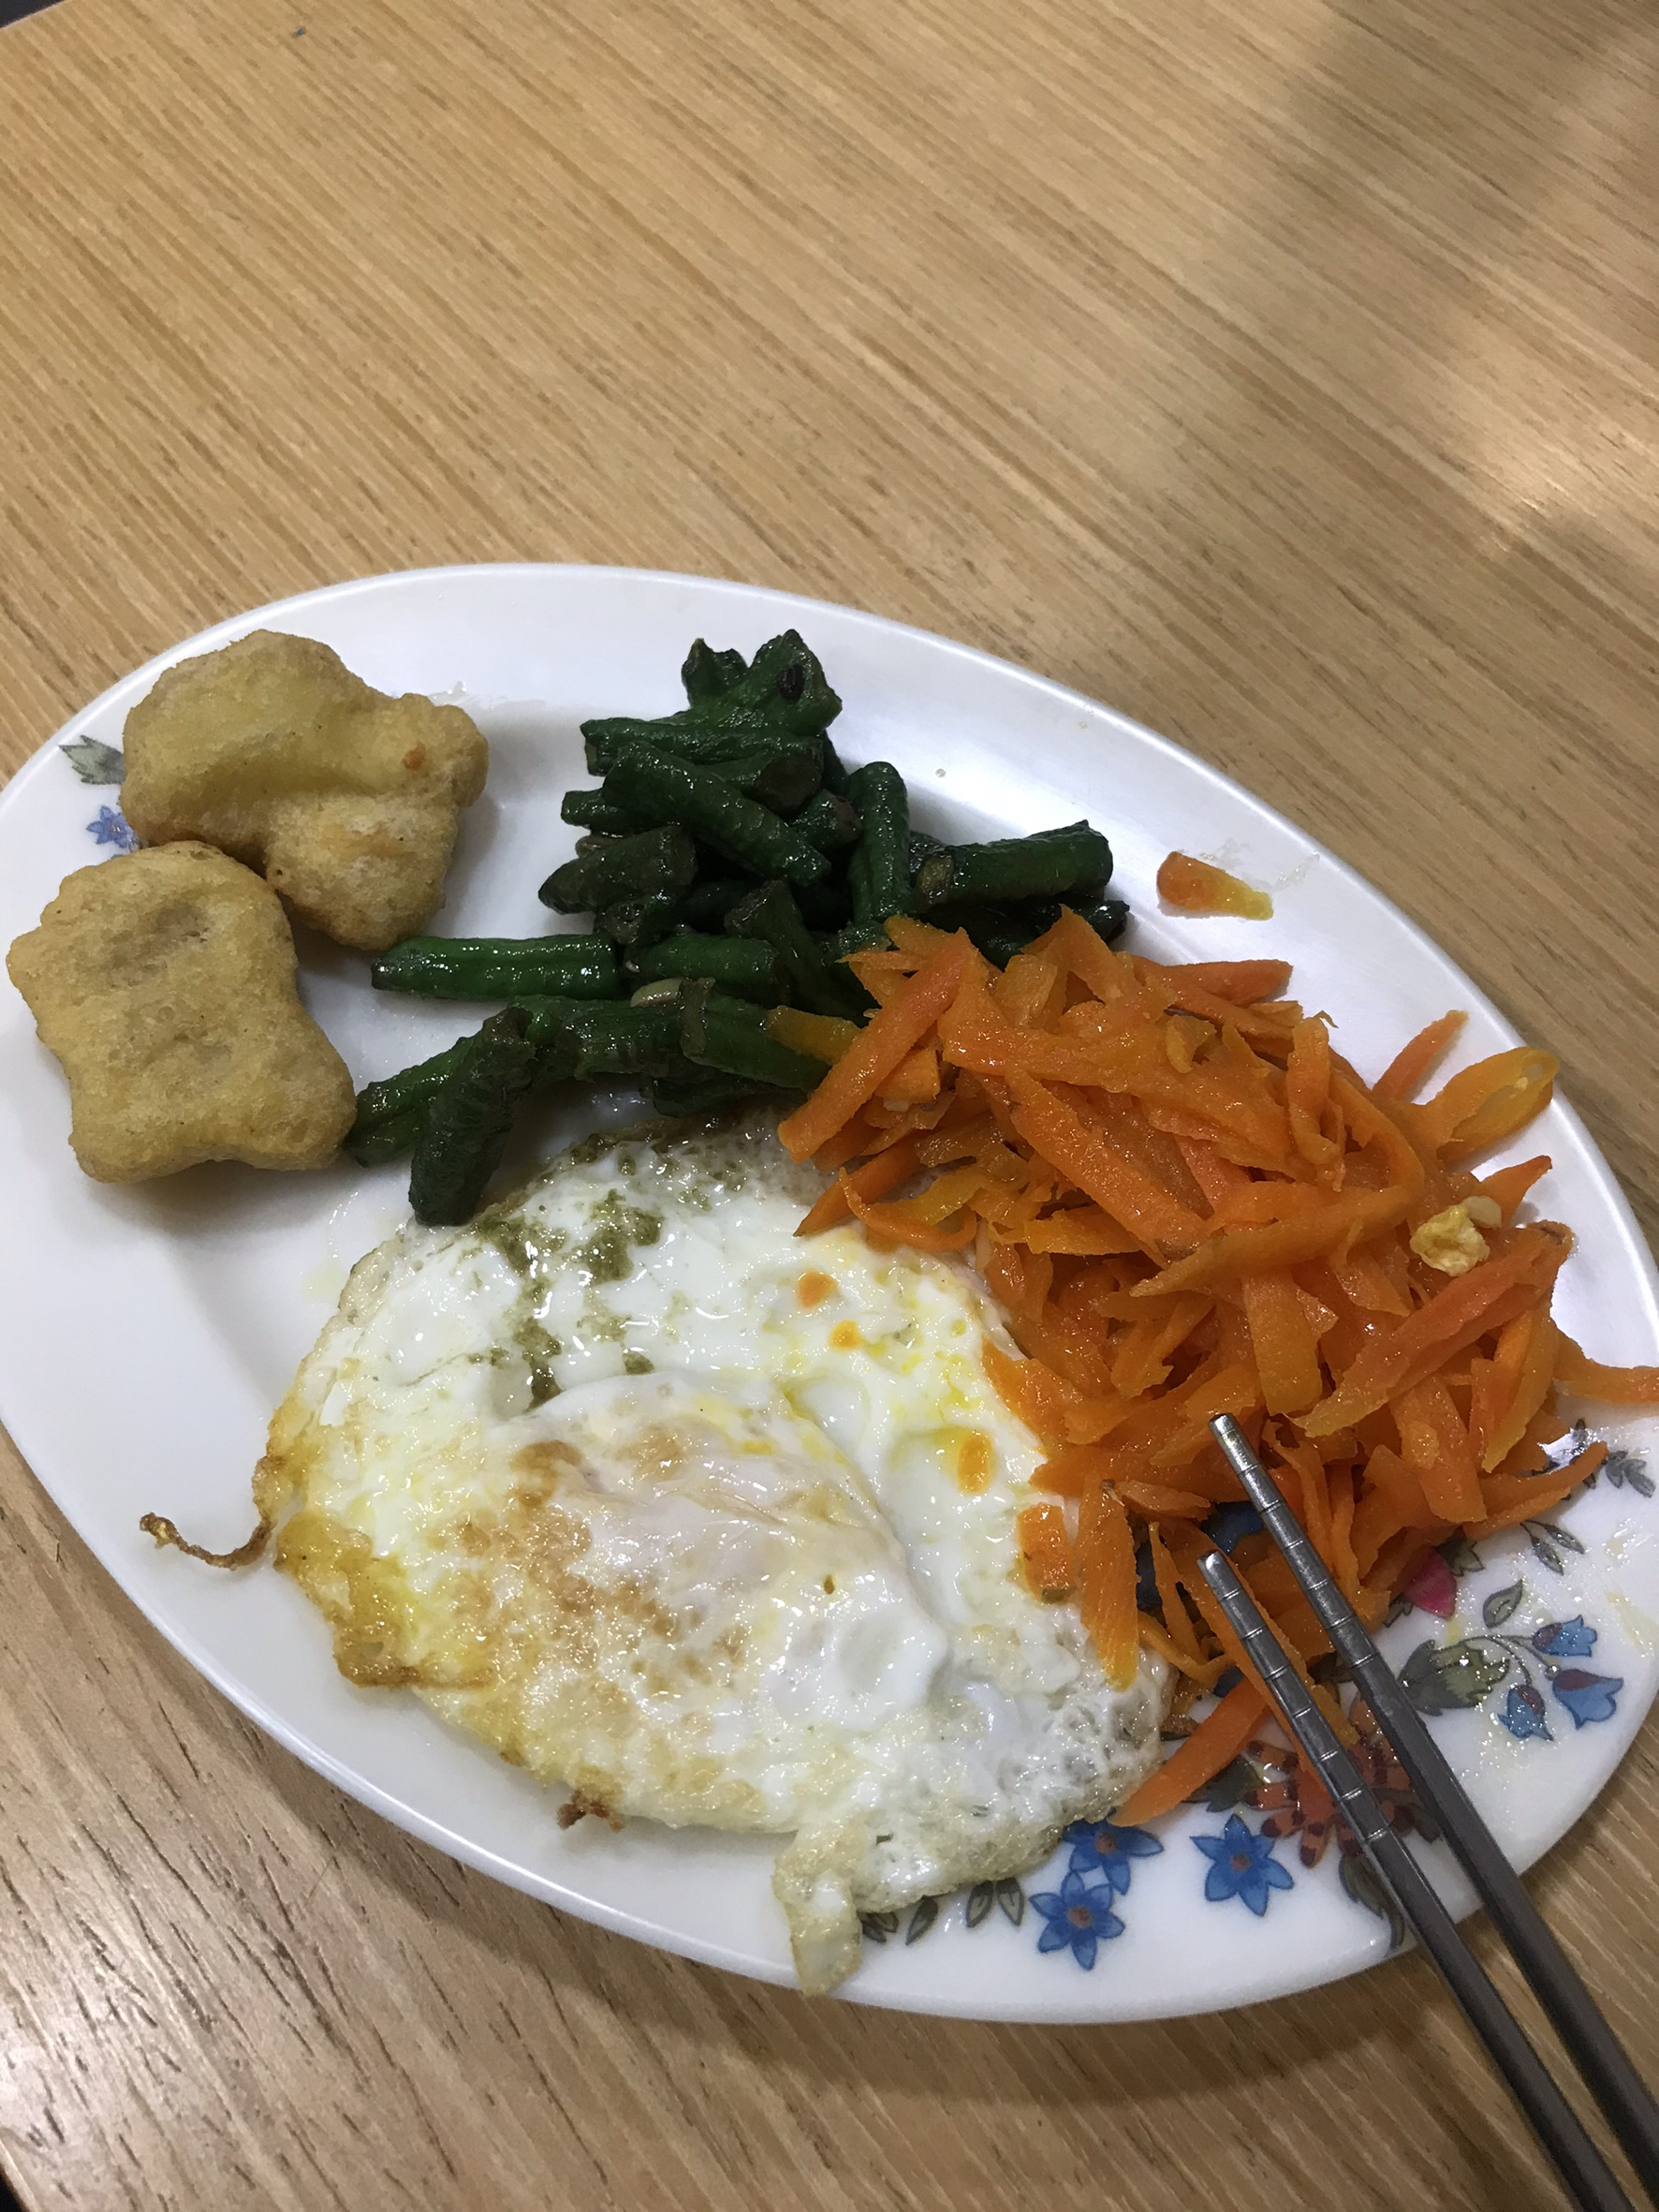carrot_eggs: (979, 927, 1568, 1713)
chicken_nuggets: (7, 633, 490, 1187)
fried_eggs: (263, 1147, 1131, 1881)
